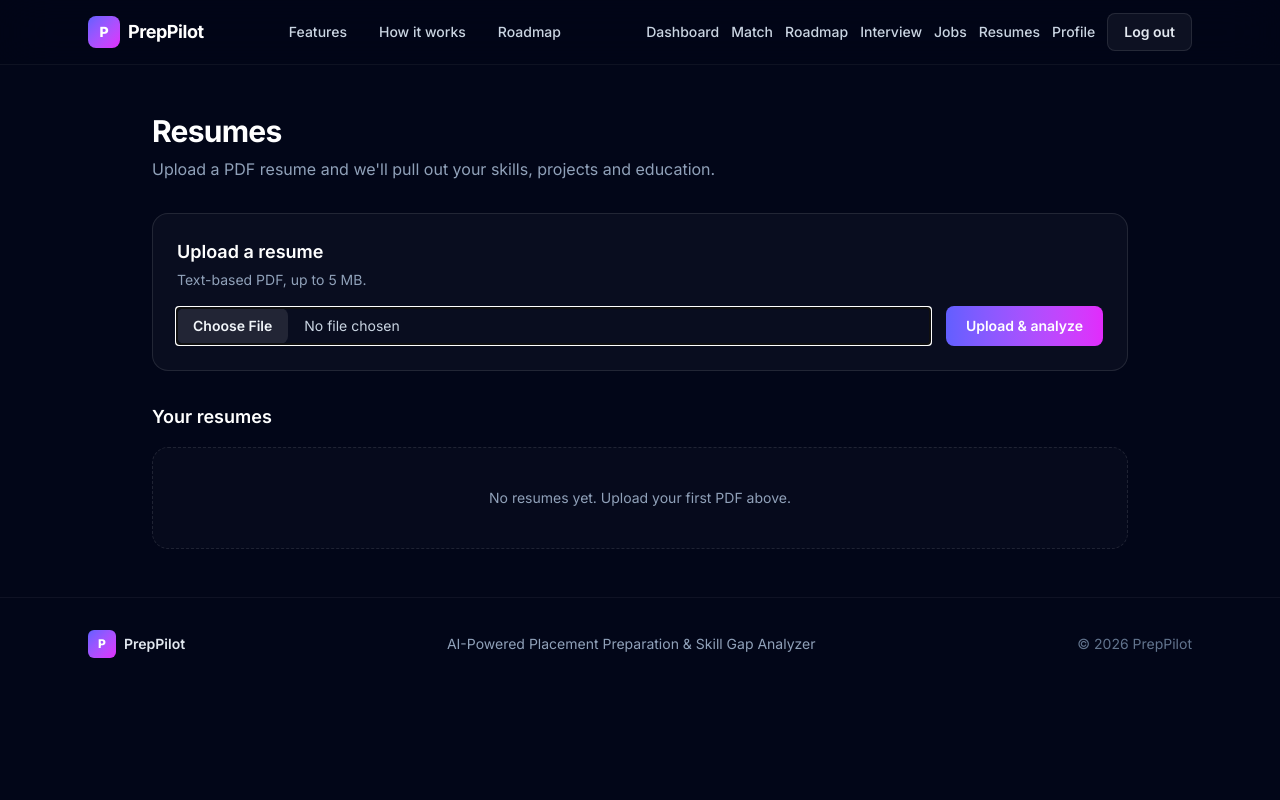
uploads a selected PDF resume
Earlier steps of the test are not shown.
Click the button "Upload & analyze" at (1024, 326), box [946,306,1103,346]
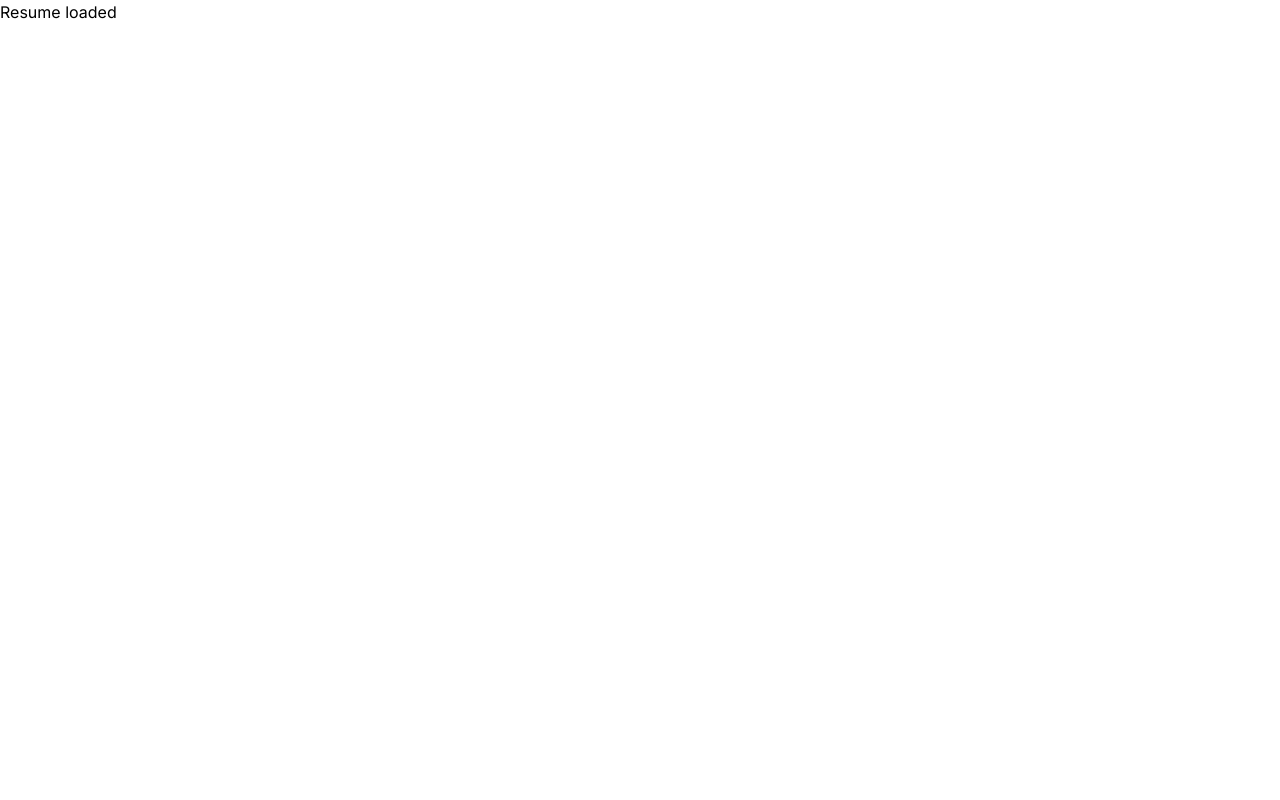
Result: the text "Resume loaded" is shown at [0,2,117,22]
